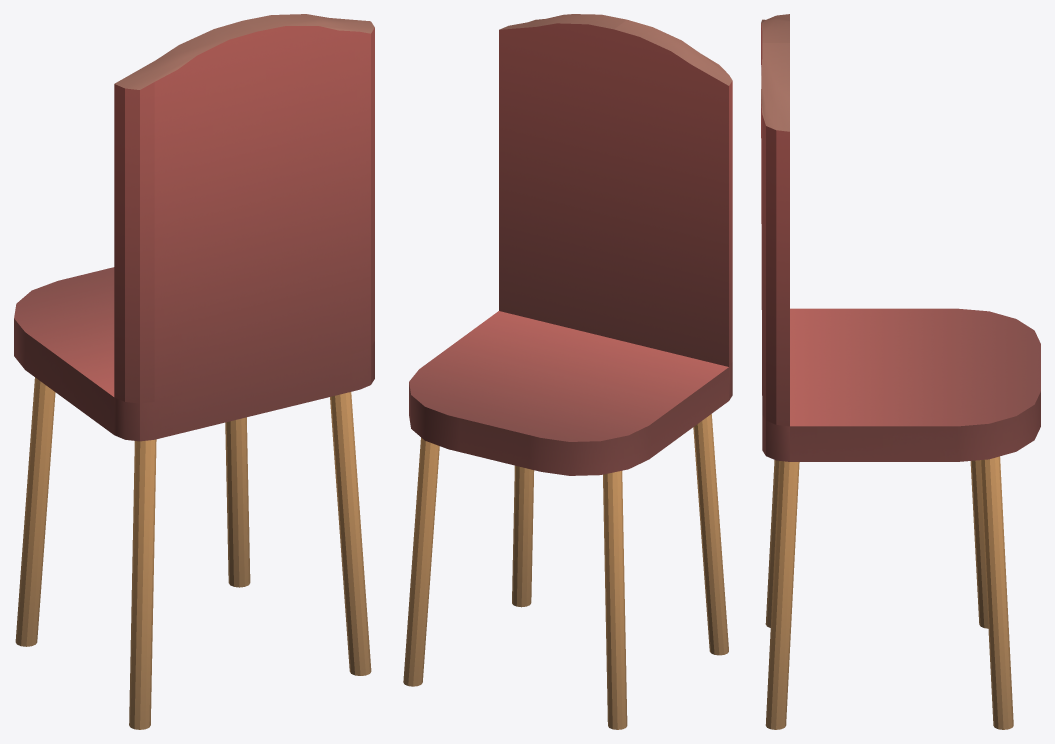
The model's file is PROP_chair.fbx.
3 views of the same model, side by side, from view 1: azimuth 30°, elevation 25°; view 2: azimuth 150°, elevation 25°; view 3: azimuth 270°, elevation 25° (orthographic). The views are drawn at different scales.
Parts seen in each view (by area): view 1: PROP_chair; view 2: PROP_chair; view 3: PROP_chair.
Boxes of the visible parts, bbox=[...] form: PROP_chair: bbox=[14, 14, 374, 729]; PROP_chair: bbox=[403, 14, 732, 729]; PROP_chair: bbox=[761, 14, 1040, 729].
Bounding box in the file's own units: 40.74 × 102 × 40.93.
